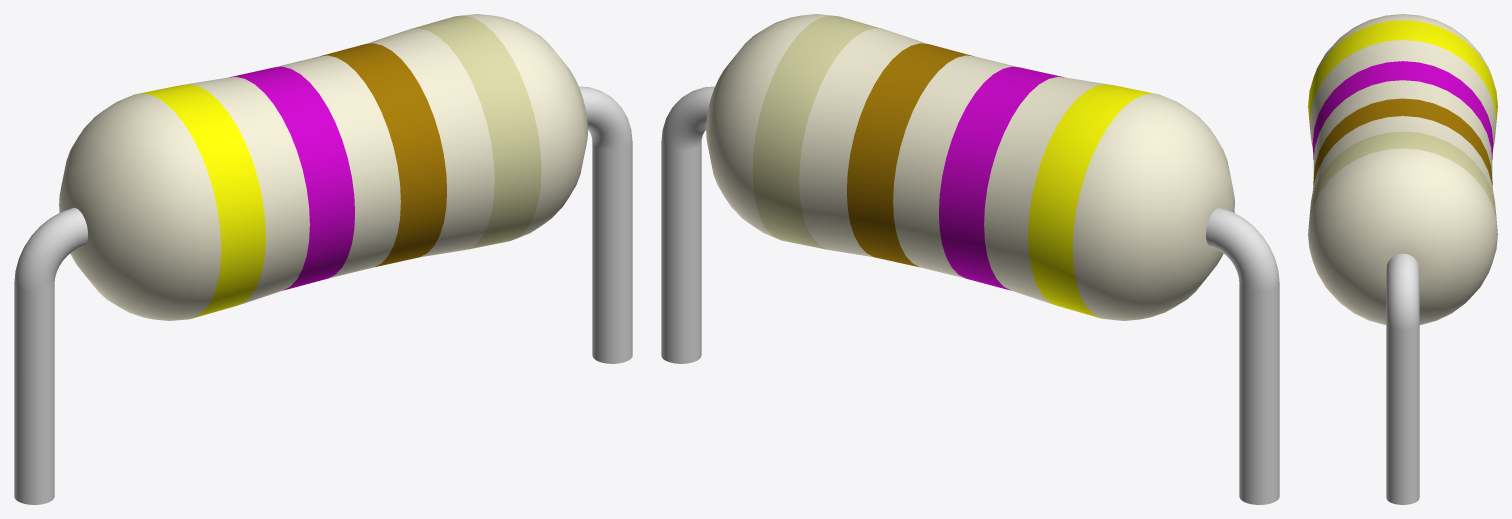
File: Axial0_4_470.fbx
3 renders of one model, left to right at view 1: azimuth 30°, elevation 25°; view 2: azimuth 150°, elevation 25°; view 3: azimuth 270°, elevation 25°, orthographic. The views are drawn at different scales.
Visible parts, largest first — view 1: Axial0_4_100K; view 2: Axial0_4_100K; view 3: Axial0_4_100K.
Part boxes in pixels (x1,y1,x2,y2): Axial0_4_100K: (14, 14, 632, 504); Axial0_4_100K: (661, 14, 1279, 504); Axial0_4_100K: (1308, 14, 1497, 504).
Bounding box in the file's own units: 1.07 × 0.6072 × 0.3507.
